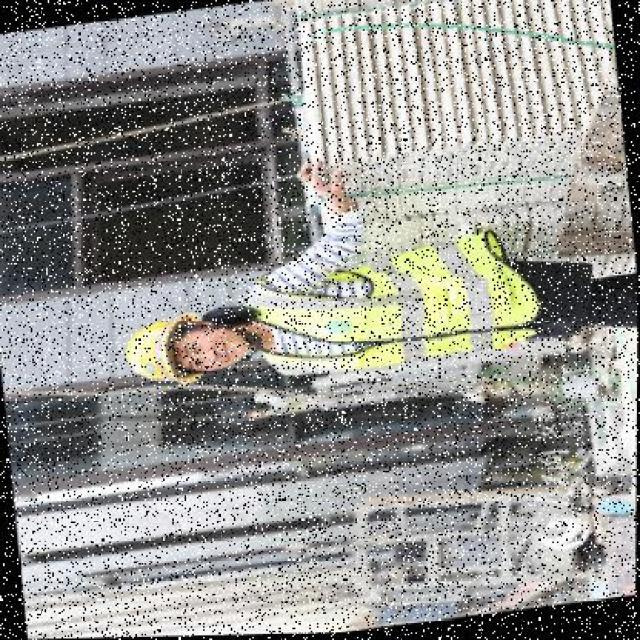helmet: (119, 310, 204, 399)
vest: (234, 234, 526, 392)
